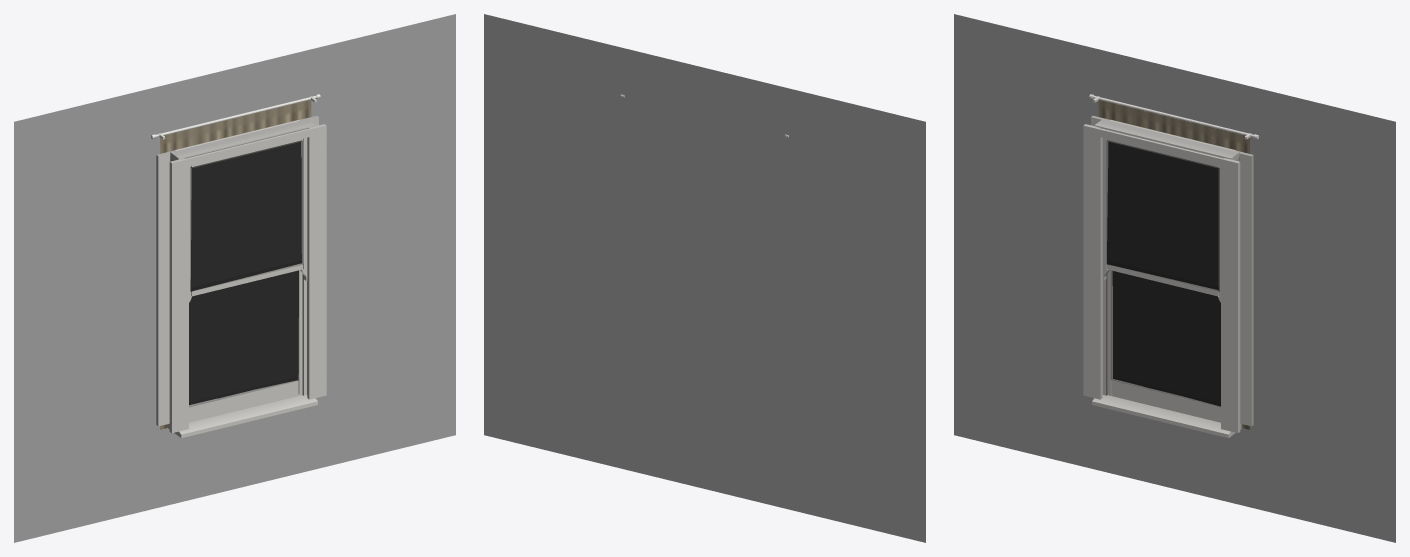
The picture shows the model from 3 angles, left to right: view 1: azimuth 30°, elevation 25°; view 2: azimuth 150°, elevation 25°; view 3: azimuth 330°, elevation 25°; orthographic projection.
Visible parts, largest first — view 1: room__card, glass__upper, glass__lower, paint_joinery__outer_lining_L, paint_joinery__outer_lining_R, paint_joinery__inner_lining_L, curtain__C1_drawn, paint_joinery__oak_sill, paint_joinery__lower_bottom_rail, paint_joinery__head_outer_lining, paint_joinery__head_lining, paint_joinery__upper_stile_R (+4 smaller); view 2: room__card; view 3: room__card, glass__upper, glass__lower, paint_joinery__outer_lining_R, paint_joinery__outer_lining_L, paint_joinery__inner_lining_R, curtain__C1_drawn, paint_joinery__oak_sill, paint_joinery__lower_bottom_rail, paint_joinery__head_outer_lining, paint_joinery__head_lining, paint_joinery__upper_stile_L (+4 smaller).
Part boxes in pixels (x1,y1,x2,y2): room__card: [14, 14, 455, 542]; glass__upper: [190, 142, 302, 291]; glass__lower: [189, 270, 298, 405]; paint_joinery__outer_lining_L: [169, 158, 188, 432]; paint_joinery__outer_lining_R: [307, 124, 326, 399]; paint_joinery__inner_lining_L: [156, 150, 173, 426]; curtain__C1_drawn: [160, 100, 311, 429]; paint_joinery__oak_sill: [168, 394, 317, 438]; paint_joinery__lower_bottom_rail: [189, 381, 297, 422]; paint_joinery__head_outer_lining: [170, 124, 326, 170]; paint_joinery__head_lining: [170, 119, 315, 160]; paint_joinery__upper_stile_R: [301, 137, 307, 269]; room__card: [484, 14, 925, 542]; room__card: [954, 14, 1395, 542]; glass__upper: [1107, 140, 1218, 290]; glass__lower: [1112, 271, 1220, 406]; paint_joinery__outer_lining_R: [1221, 158, 1240, 432]; paint_joinery__outer_lining_L: [1083, 124, 1102, 399]; paint_joinery__inner_lining_R: [1236, 150, 1253, 426]; curtain__C1_drawn: [1098, 100, 1249, 429]; paint_joinery__oak_sill: [1092, 394, 1241, 438]; paint_joinery__lower_bottom_rail: [1112, 379, 1220, 422]; paint_joinery__head_outer_lining: [1083, 124, 1239, 170]; paint_joinery__head_lining: [1094, 119, 1239, 160]; paint_joinery__upper_stile_L: [1102, 137, 1107, 269].
Size of the model in its own units: 2.8 by 2.55 by 0.1657.
Materials: 6 (3 with a texture image).
